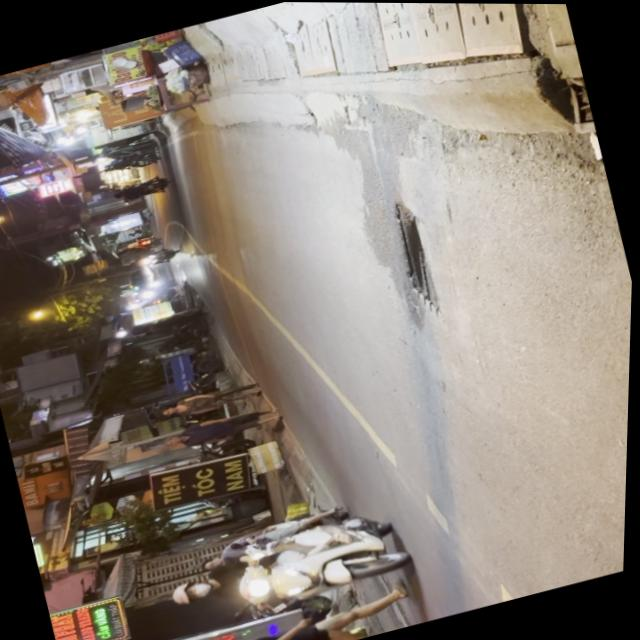helmet: (170, 575, 219, 608)
licenseplate: (159, 490, 420, 635)
motorcyclist: (198, 555, 227, 573)
